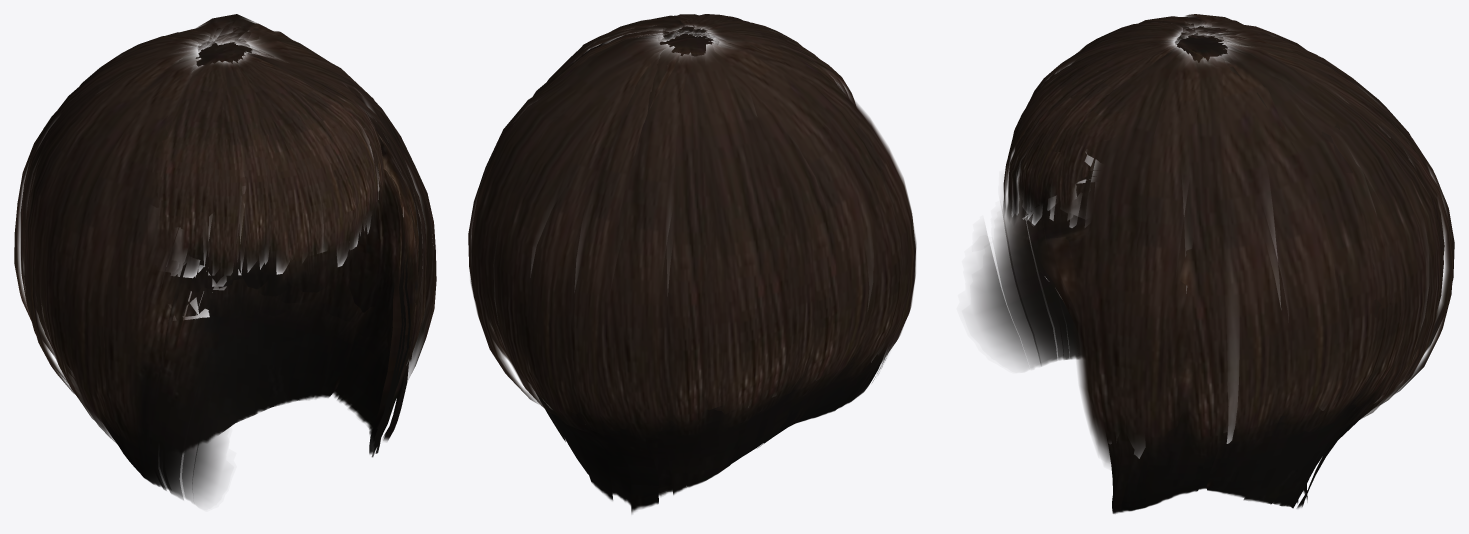
Rendered from mh_bob01.glb.
3 renders of one model, left to right at view 1: azimuth 30°, elevation 25°; view 2: azimuth 150°, elevation 25°; view 3: azimuth 270°, elevation 25°, orthographic. The views are drawn at different scales.
Visible parts, largest first — view 1: locks, hair; view 2: locks, hair; view 3: locks, hair.
Part boxes in pixels (left/top/right/bottom): locks: left=14, top=14, right=436, bottom=445; hair: left=99, top=42, right=419, bottom=505; locks: left=468, top=14, right=916, bottom=440; hair: left=516, top=33, right=888, bottom=513; locks: left=1003, top=14, right=1454, bottom=472; hair: left=971, top=35, right=1402, bottom=513.
Size of the model in its own units: 22.6 by 26.13 by 25.55.
2 materials, 2 textured.
